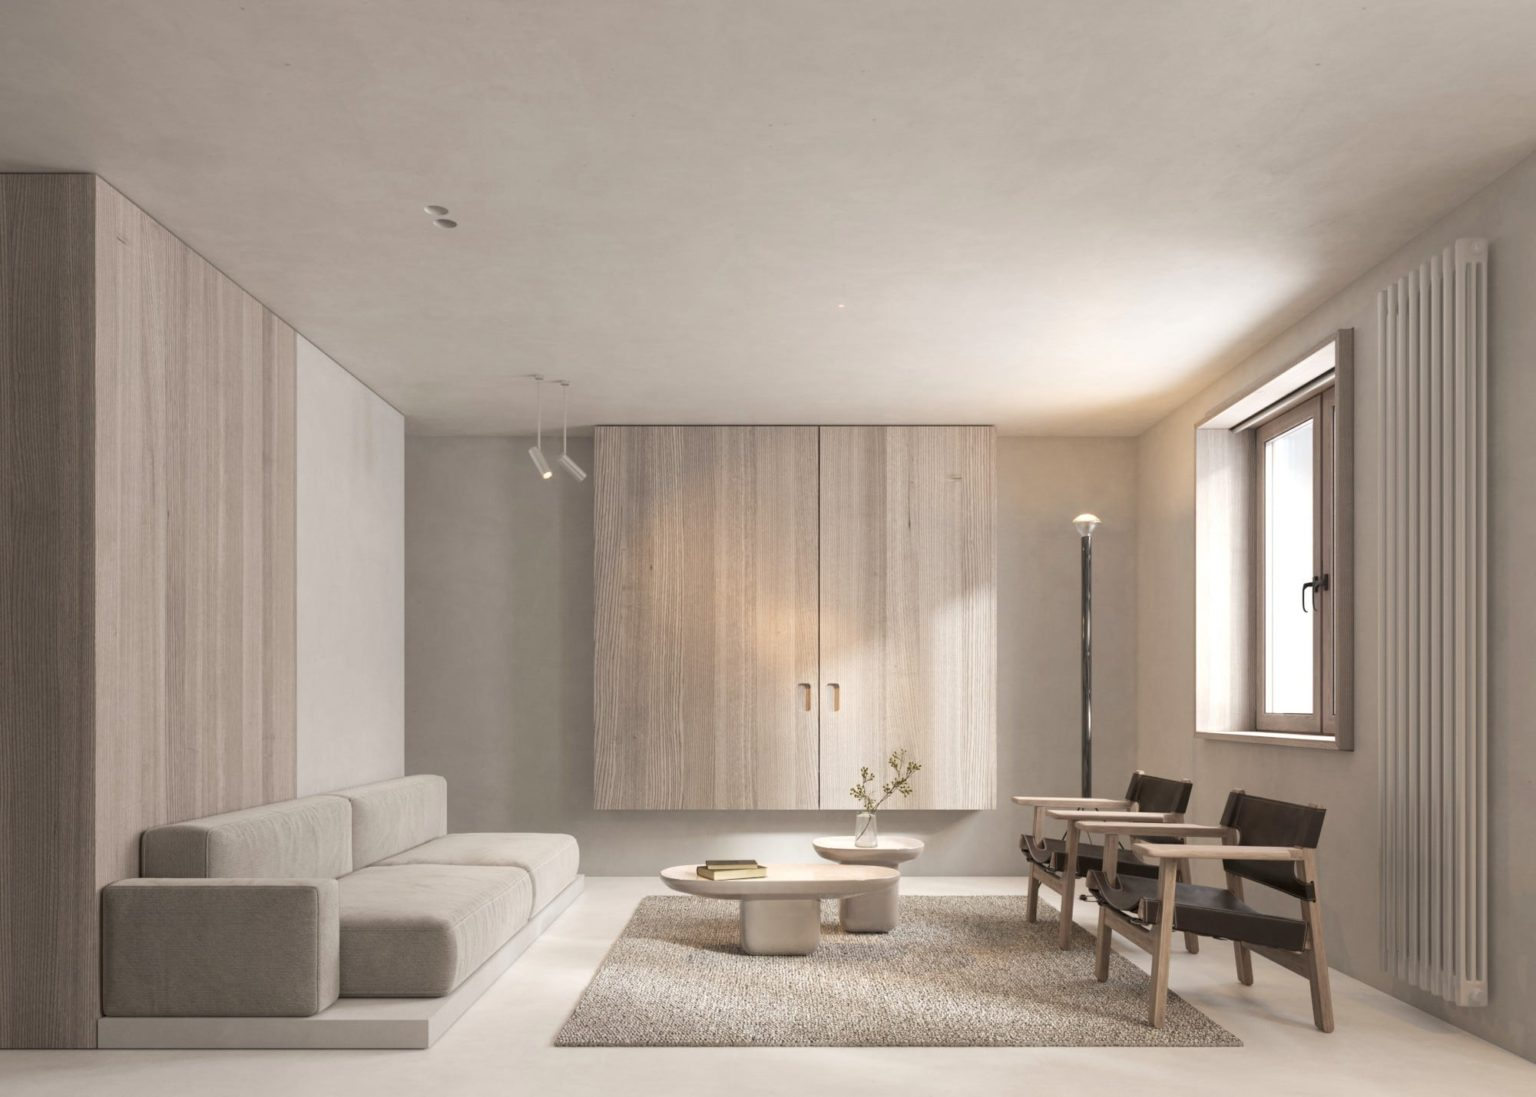chair: (1080, 787, 1343, 1040), (1008, 771, 1200, 959)
floor lamp: (1070, 502, 1110, 795)
flower vase: (843, 738, 927, 846)
sofa: (99, 766, 586, 1021)
table: (656, 856, 900, 962), (815, 829, 929, 940)
